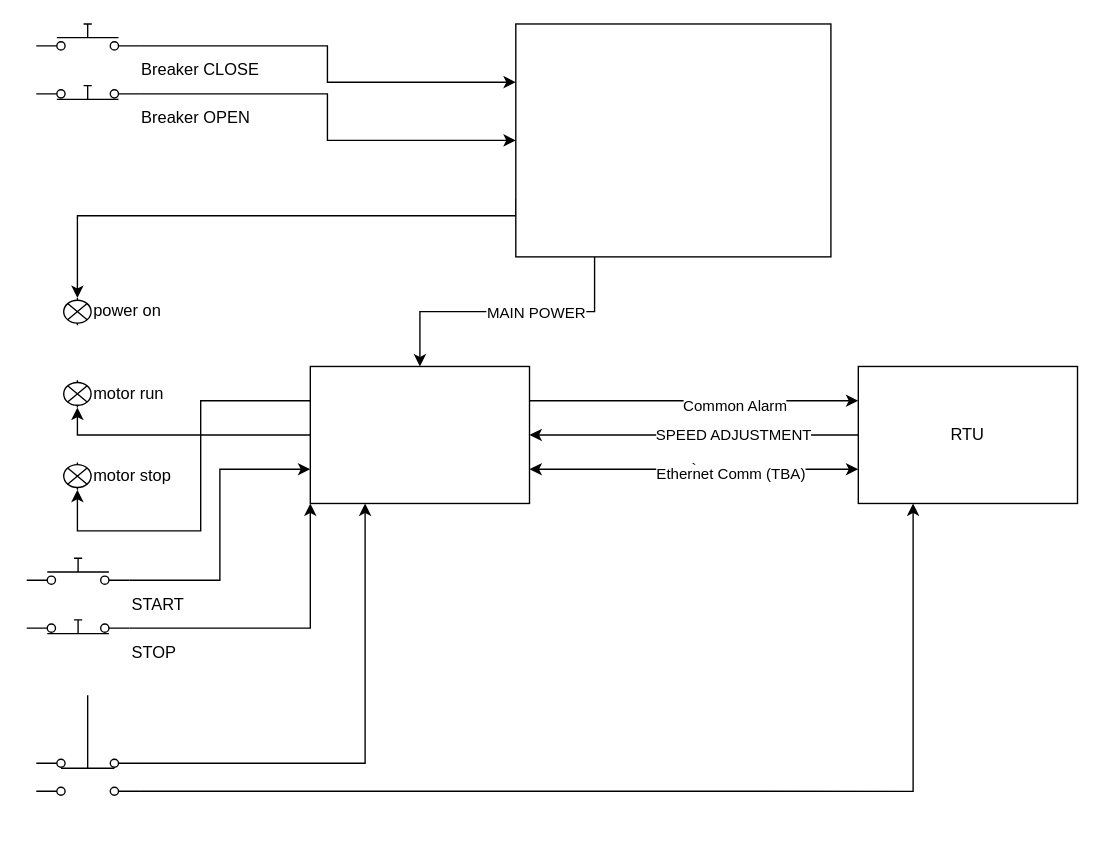
The diagram is 1101 pixels wide and 848 high, and some of its shapes have lost their labels. Here are the shapes that lost their labels. From the top down, the centre of each, then its label:
the point at 672,140: Motor Starter Unit
the point at 419,434: VSD
the point at 87,744: REMOTE/LOCAL
